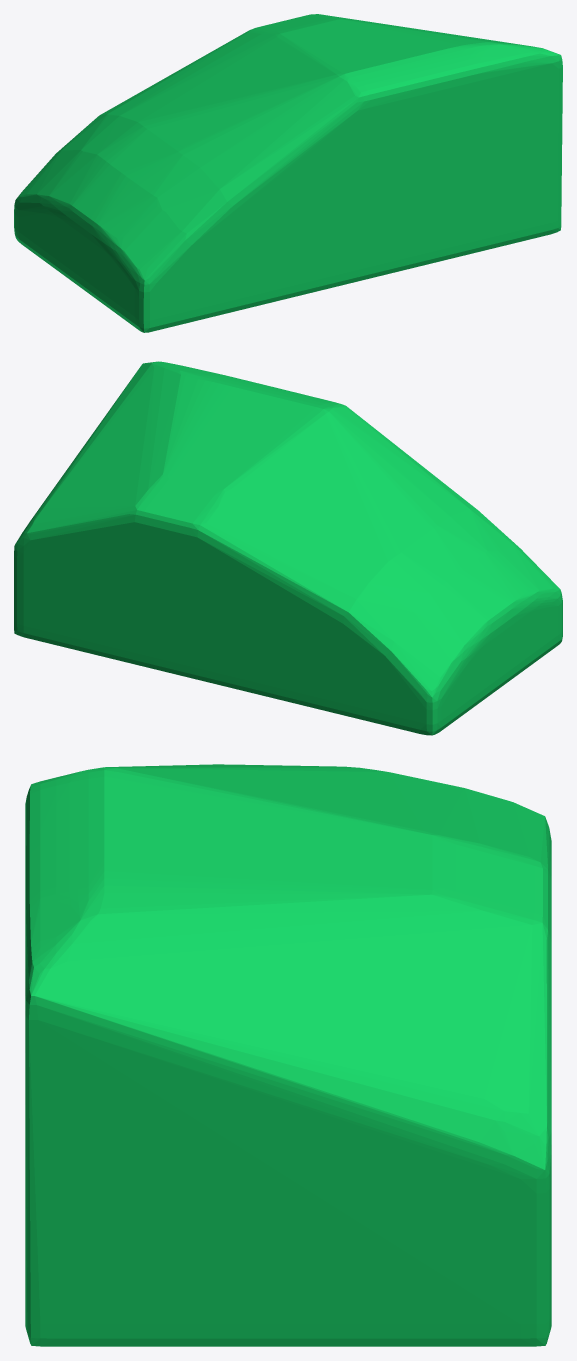
File: right_hip_yaw_link_part_23.obj
3 renders of one model, top to bottom at view 1: azimuth 30°, elevation 25°; view 2: azimuth 150°, elevation 25°; view 3: azimuth 270°, elevation 25°, orthographic. The views are drawn at different scales.
Size of the model in its own units: 0.0754 by 0.0332 by 0.0408.
